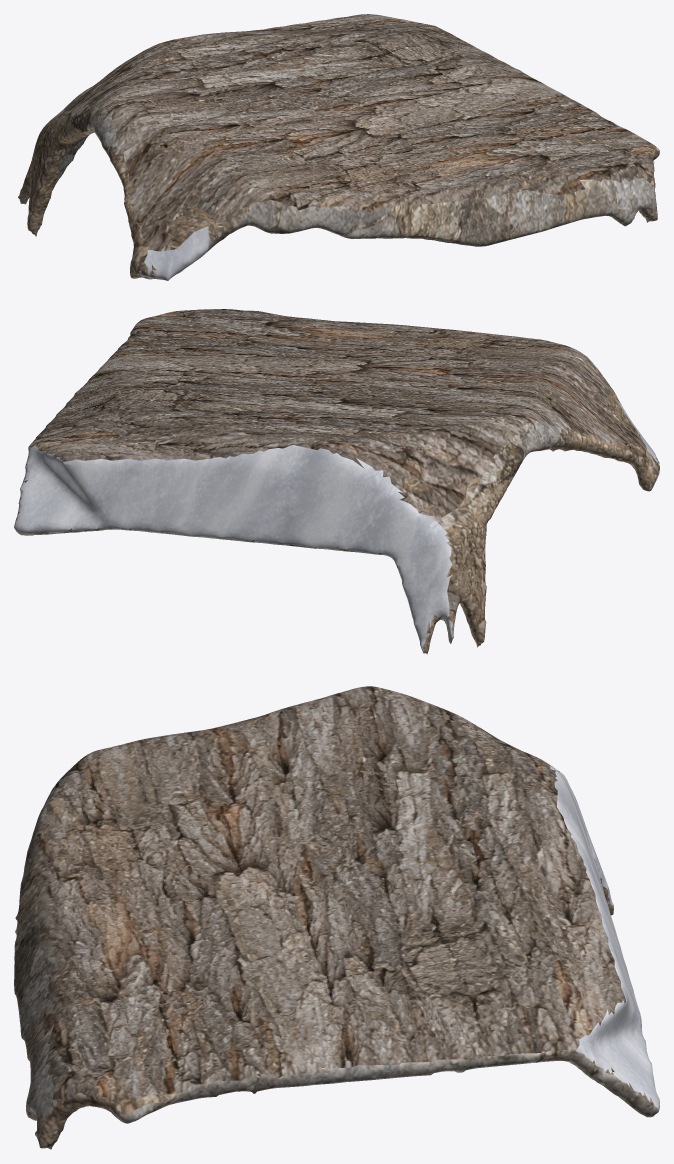
The model's file is CW_LayeredRock_A_SnowCover.fbx.
3 views of the same model, one above another, from view 1: azimuth 30°, elevation 25°; view 2: azimuth 150°, elevation 25°; view 3: azimuth 270°, elevation 25° (orthographic). The views are drawn at different scales.
Visible parts, largest first — view 1: CW_LayeredRock_A_SnowCover; view 2: CW_LayeredRock_A_SnowCover; view 3: CW_LayeredRock_A_SnowCover.
Part boxes in pixels (x1,y1,x2,y2): CW_LayeredRock_A_SnowCover: [18, 14, 659, 280]; CW_LayeredRock_A_SnowCover: [14, 309, 659, 654]; CW_LayeredRock_A_SnowCover: [14, 686, 659, 1149].
Bounding box in the file's own units: 4.1 × 1.31 × 3.26.
